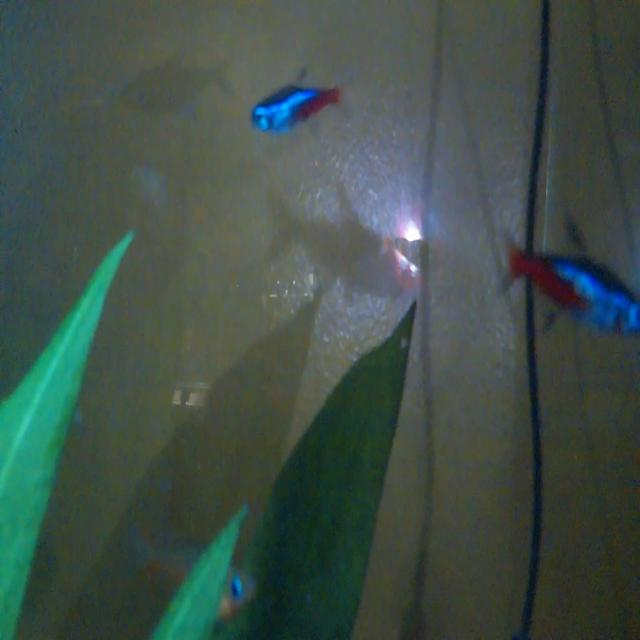fish: (497, 211, 640, 348), (243, 74, 352, 138)
